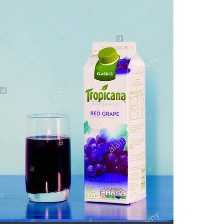carton: (81, 39, 149, 206)
glass: (23, 110, 70, 205)
